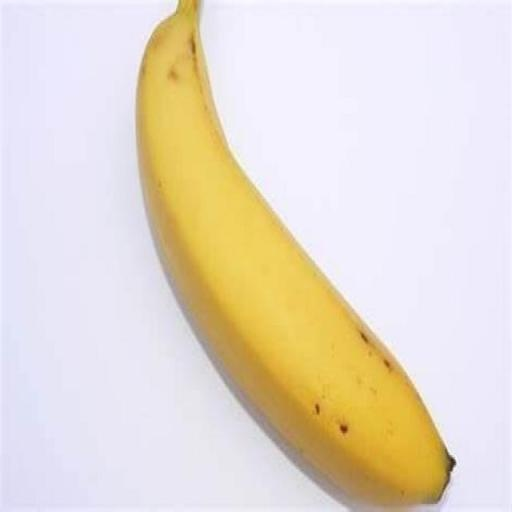fruit: (136, 0, 453, 504)
